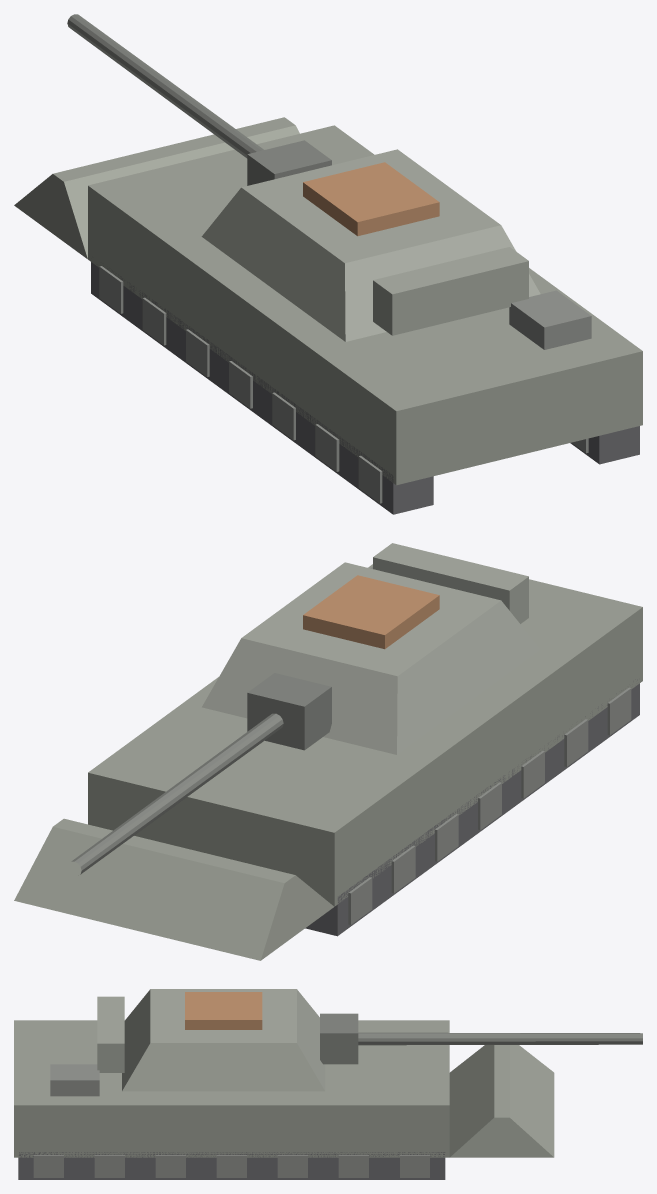
Rendered from mbt_e4_us_LOD0.glb.
3 views of the same model, one above another, from view 1: azimuth 30°, elevation 25°; view 2: azimuth 150°, elevation 25°; view 3: azimuth 270°, elevation 25° (orthographic). The views are drawn at different scales.
Parts seen in each view (by area): view 1: mbt_e4_us_LOD0_body; view 2: mbt_e4_us_LOD0_body; view 3: mbt_e4_us_LOD0_body.
Boxes of the visible parts, x1,y1,x2,y2 form: mbt_e4_us_LOD0_body: (14,14,642,514); mbt_e4_us_LOD0_body: (14,543,642,960); mbt_e4_us_LOD0_body: (14,989,642,1179).
Size of the model in its own units: 3.73 by 2.64 by 11.44.
